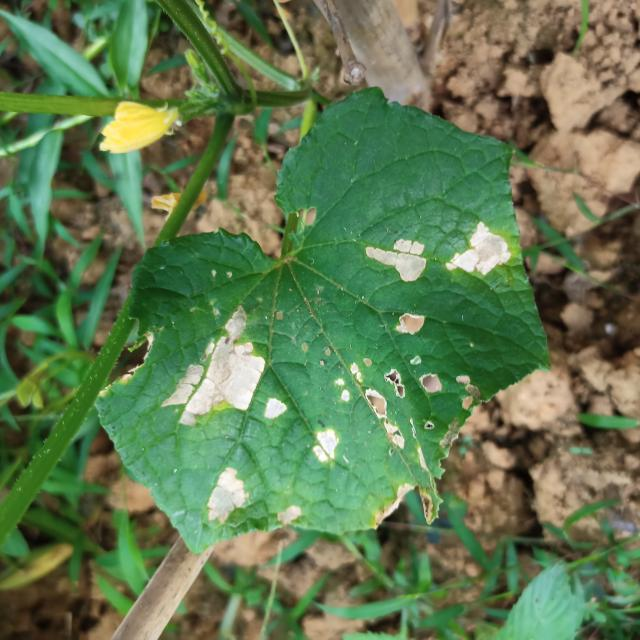disease_cucumber: (161, 294, 345, 535), (328, 294, 478, 448), (356, 206, 515, 292)
